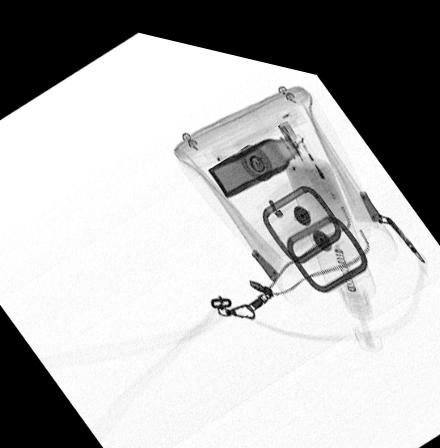Lighter: (276, 105, 342, 189)
